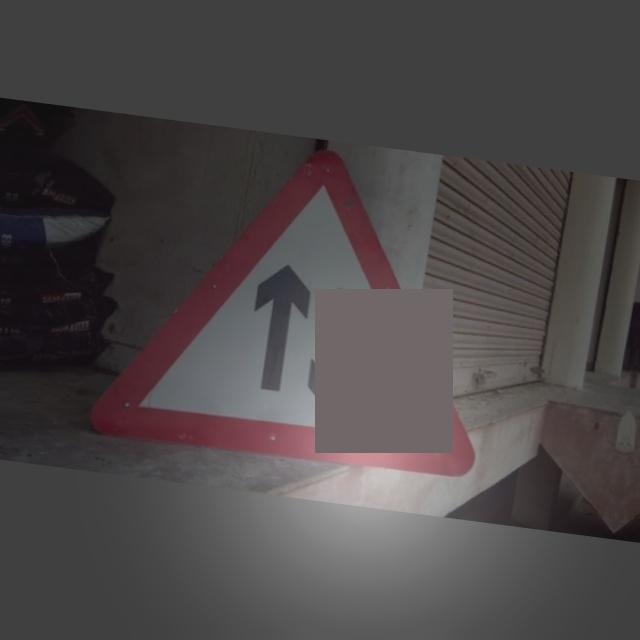Mandatory_Two_Way_Traffic: (122, 125, 506, 493)
